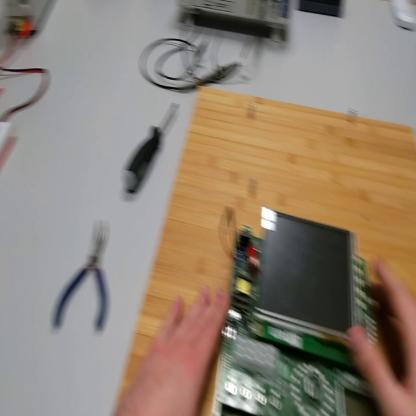hand: (119, 283, 229, 415), (350, 257, 416, 415)
low voltage board: (222, 209, 391, 416)
oscilloscope: (178, 3, 296, 46)
oscilloscope probe tip: (183, 60, 243, 93)
pliers: (53, 225, 118, 332)
power supply: (1, 1, 51, 42)
register: (2, 89, 16, 171)
screwdriver-: (125, 100, 181, 193)
working area: (117, 81, 416, 414)
